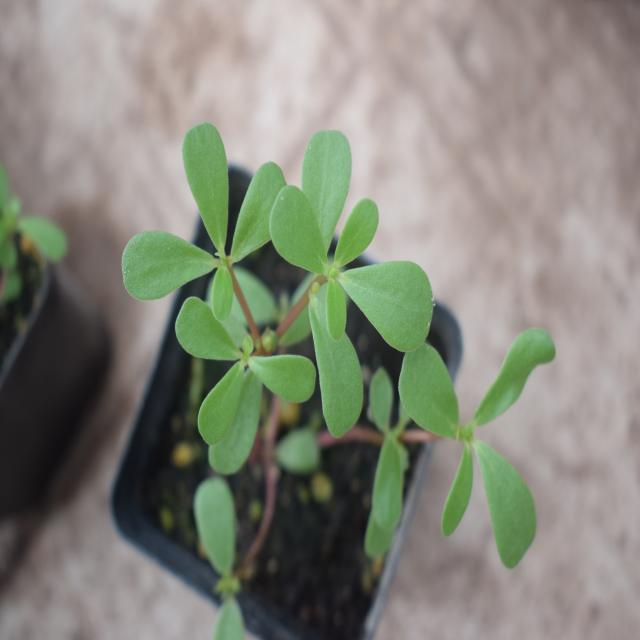purslane: (121, 120, 550, 549)
